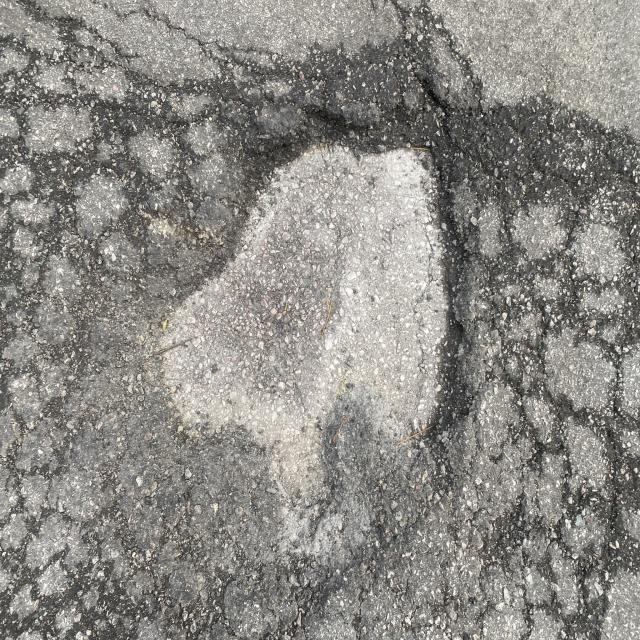pothole: (233, 31, 555, 455)
